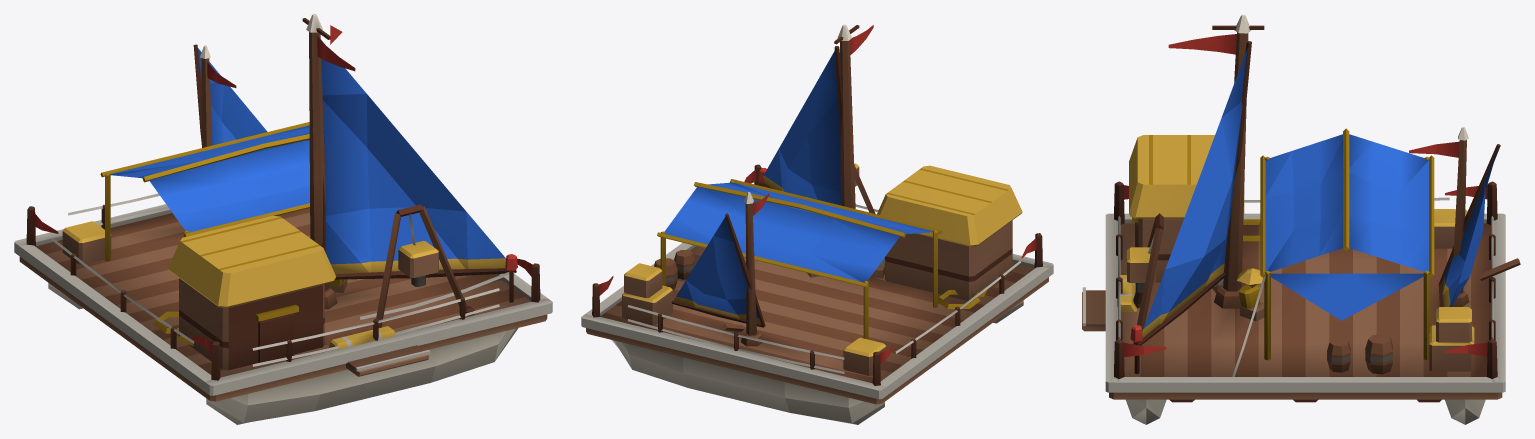
3 views of the same model, side by side, from view 1: azimuth 30°, elevation 25°; view 2: azimuth 150°, elevation 25°; view 3: azimuth 270°, elevation 25° (orthographic). The views are drawn at different scales.
Visible parts, largest first — view 1: body, swaySailMain, swaySailFore, swayBanner; view 2: body, swaySailMain, swaySailFore, swayBanner; view 3: body, swaySailMain, swaySailFore, swayBanner, swayFlagTop, swayFlagFore.
Part boxes in pixels (box(x1,y1,x2,y2)): body: box(14, 14, 552, 424); swaySailMain: box(321, 40, 516, 319); swaySailFore: box(193, 44, 267, 145); swayBanner: box(33, 211, 532, 354); body: box(581, 24, 1053, 424); swaySailMain: box(758, 46, 842, 205); swaySailFore: box(671, 213, 765, 327); swayBanner: box(598, 169, 1036, 364); body: box(1082, 14, 1520, 424); swaySailMain: box(1135, 41, 1251, 345); swaySailFore: box(1438, 144, 1500, 306); swayBanner: box(1123, 185, 1487, 357); swayFlagTop: box(1168, 34, 1236, 54); swayFlagFore: box(1409, 141, 1459, 157).
Size of the model in its own units: 3.56 by 3.45 by 3.9.
